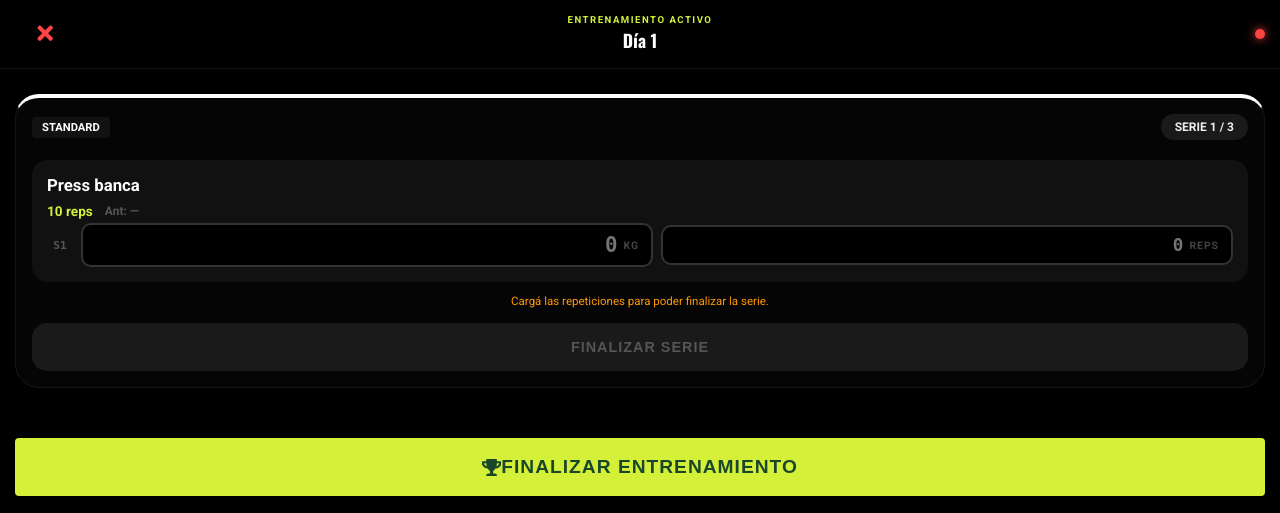
Test: WorkoutView — NUEVO: las repeticiones son obligatorias (al menos 1) para poder finalizar la serie › cargando 1 repetición (o más), el botón se habilita y el aviso desaparece
Type "40" into the field named "Peso serie 1" at [356, 245], box [95,233,618,257]
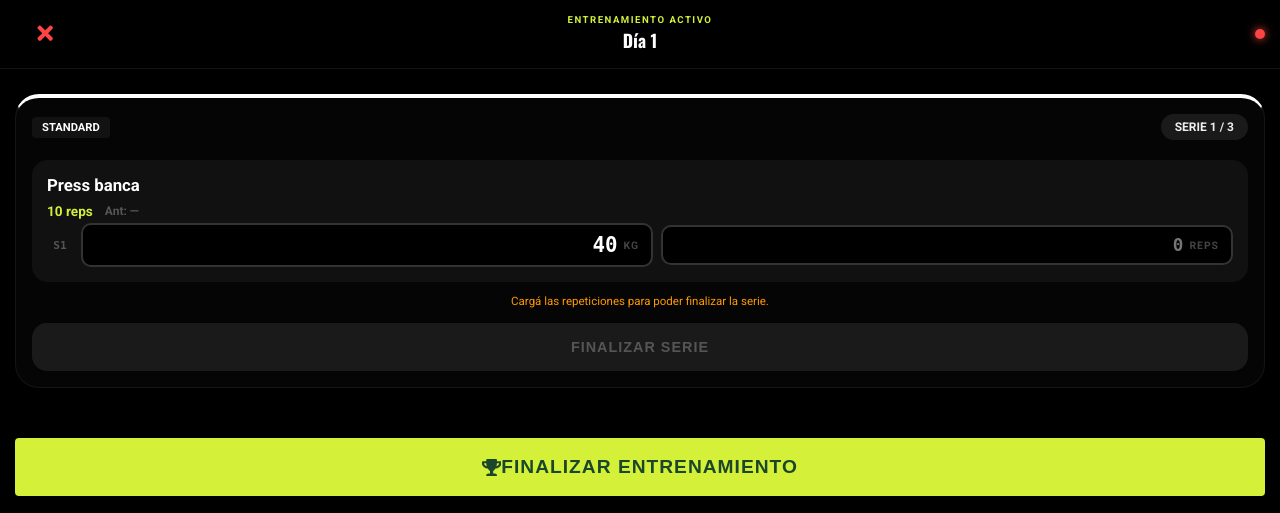
Type "1" into the number field named "Repeticiones serie 1" at [929, 245], box [675,235,1183,255]
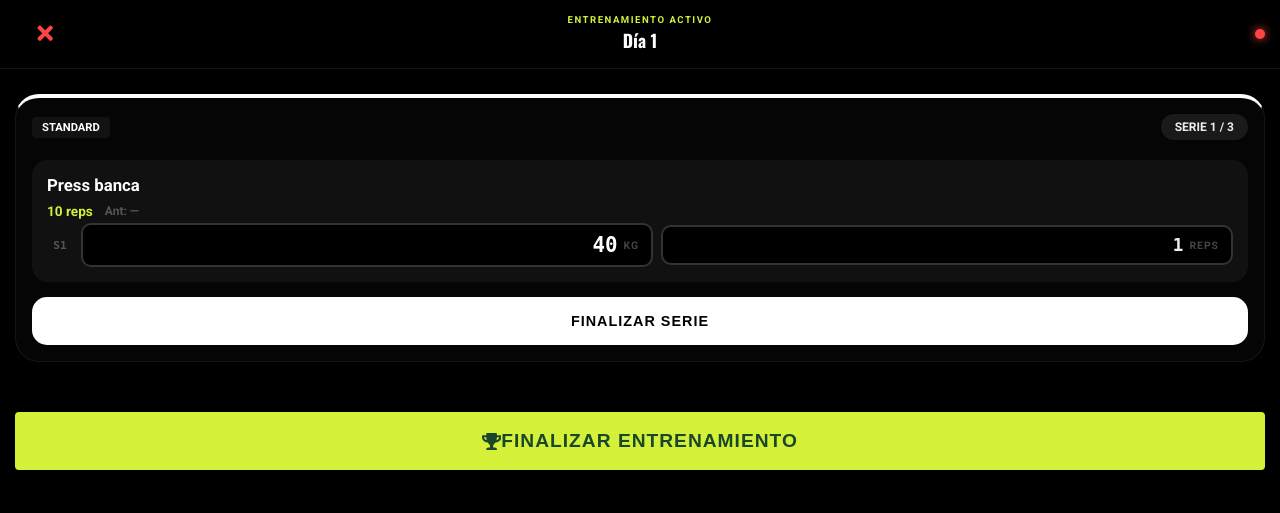
Result: the button "FINALIZAR SERIE" is enabled at [32,297,1248,345]
Result: the text "Cargá las repeticiones" is gone
